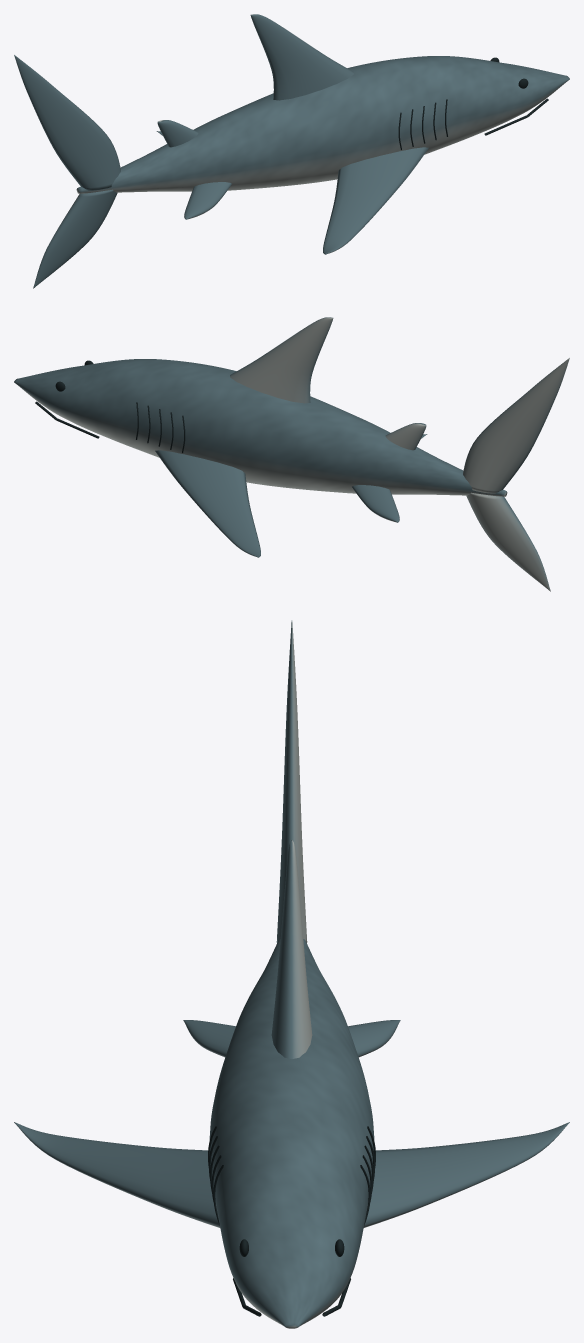
The model's file is shark.glb.
The picture shows the model from 3 angles, top to bottom: view 1: azimuth 30°, elevation 25°; view 2: azimuth 150°, elevation 25°; view 3: azimuth 270°, elevation 25°; orthographic projection. The views are drawn at different scales.
Visible parts, largest first — view 1: shark; view 2: shark; view 3: shark.
Part boxes in pixels (box(x1,y1,x2,y2)): shark: box(14, 14, 569, 288); shark: box(14, 317, 569, 591); shark: box(14, 620, 569, 1328).
Size of the model in its own units: 5.54 by 2.28 by 2.92.
